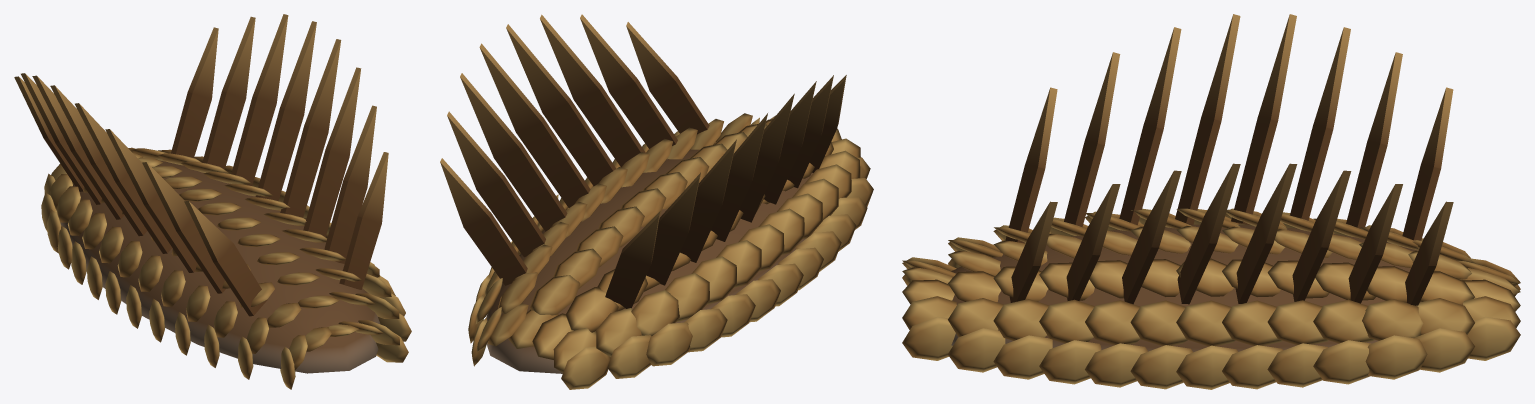
Rendered from Wiwaxia.fbx.
3 renders of one model, left to right at view 1: azimuth 30°, elevation 25°; view 2: azimuth 150°, elevation 25°; view 3: azimuth 270°, elevation 25°, orthographic. The views are drawn at different scales.
Parts seen in each view (by area): view 1: Wiwaxia; view 2: Wiwaxia; view 3: Wiwaxia.
Boxes of the visible parts, box(x1,y1,x2,y2) form: Wiwaxia: box(14, 14, 411, 389); Wiwaxia: box(440, 14, 873, 389); Wiwaxia: box(902, 14, 1520, 389).
Bounding box in the file's own units: 0.5237 × 0.3989 × 0.9146.
